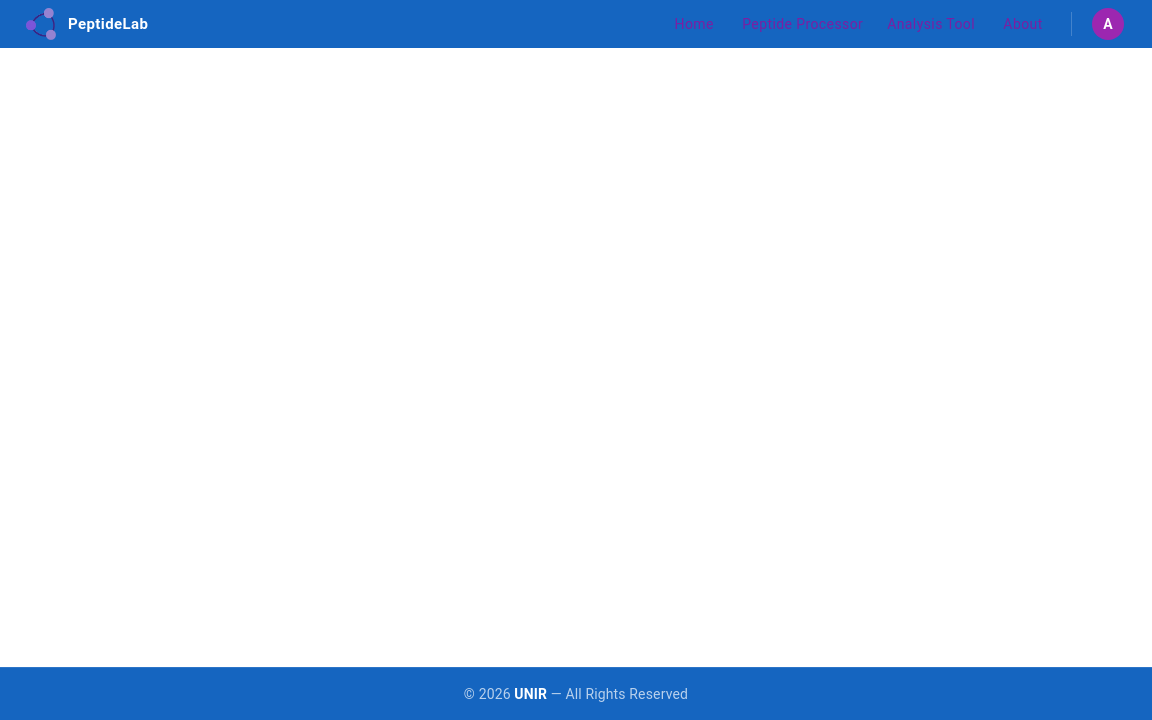
Test: textos de conta e de apresentacao › exclusao de conta informa 60 dias e reativacao
The width and height of the screenshot is (1152, 720).
Click the button titled "a@x.org".
click(1108, 24)  # box [1088,4,1128,44]
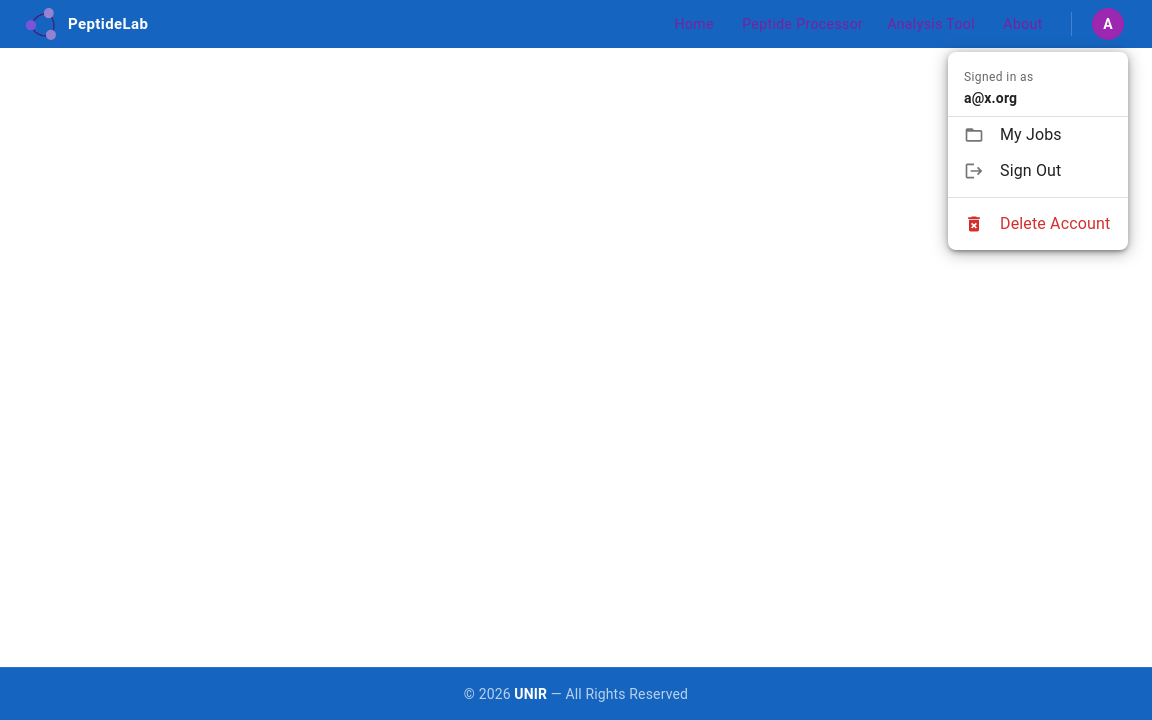
expect the text "Signed in as" is shown: met, box [964,70,1034,84]
expect the text "My Jobs" is shown: met, box [1000,125,1062,144]
expect the text "Sign Out" is shown: met, box [1000,161,1062,180]
Click the menu item "Delete Account".
click(1037, 224)  # box [964,214,1110,234]
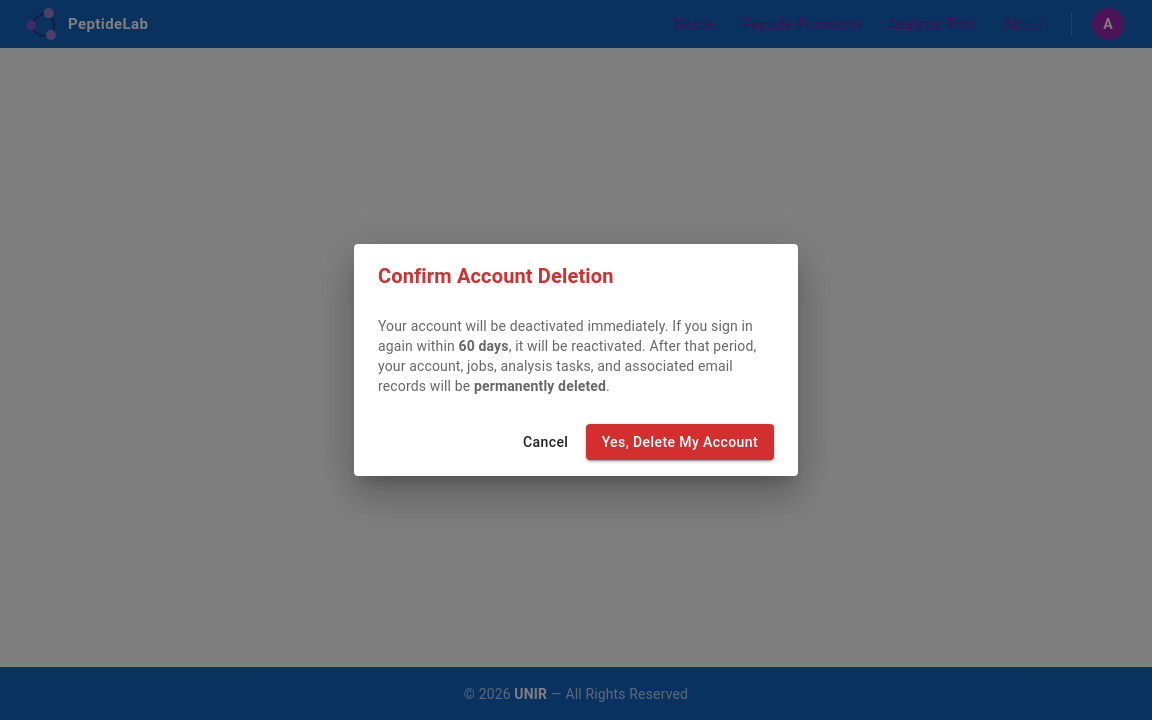
expect the text "Your account will be deactivated immediately" shows "60 days": met, box [458,338,509,354]
expect the text "Your account will be deactivated immediately" shows "reactivated": met, box [378,338,756,394]
